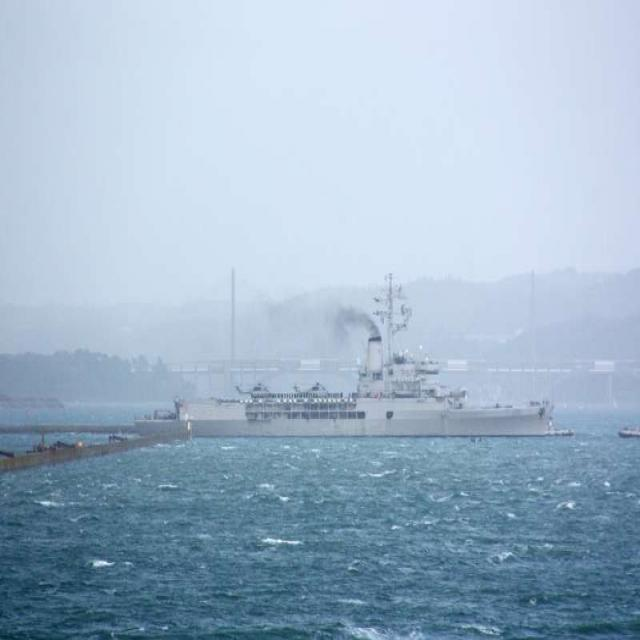Portanaves: (130, 263, 569, 451)
